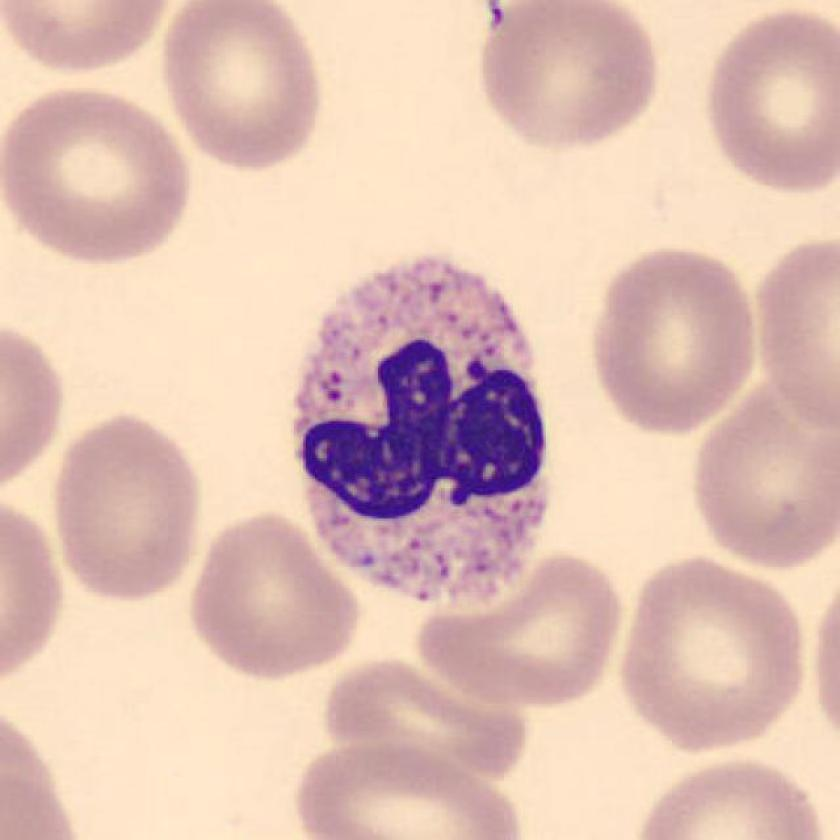neutrophil: (299, 257, 551, 605)
